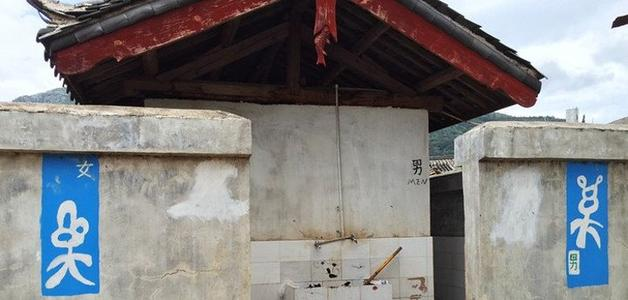chinese: (407, 149, 429, 182), (73, 157, 101, 181), (563, 246, 582, 276)
naxi: (47, 199, 97, 295), (570, 174, 606, 257)
